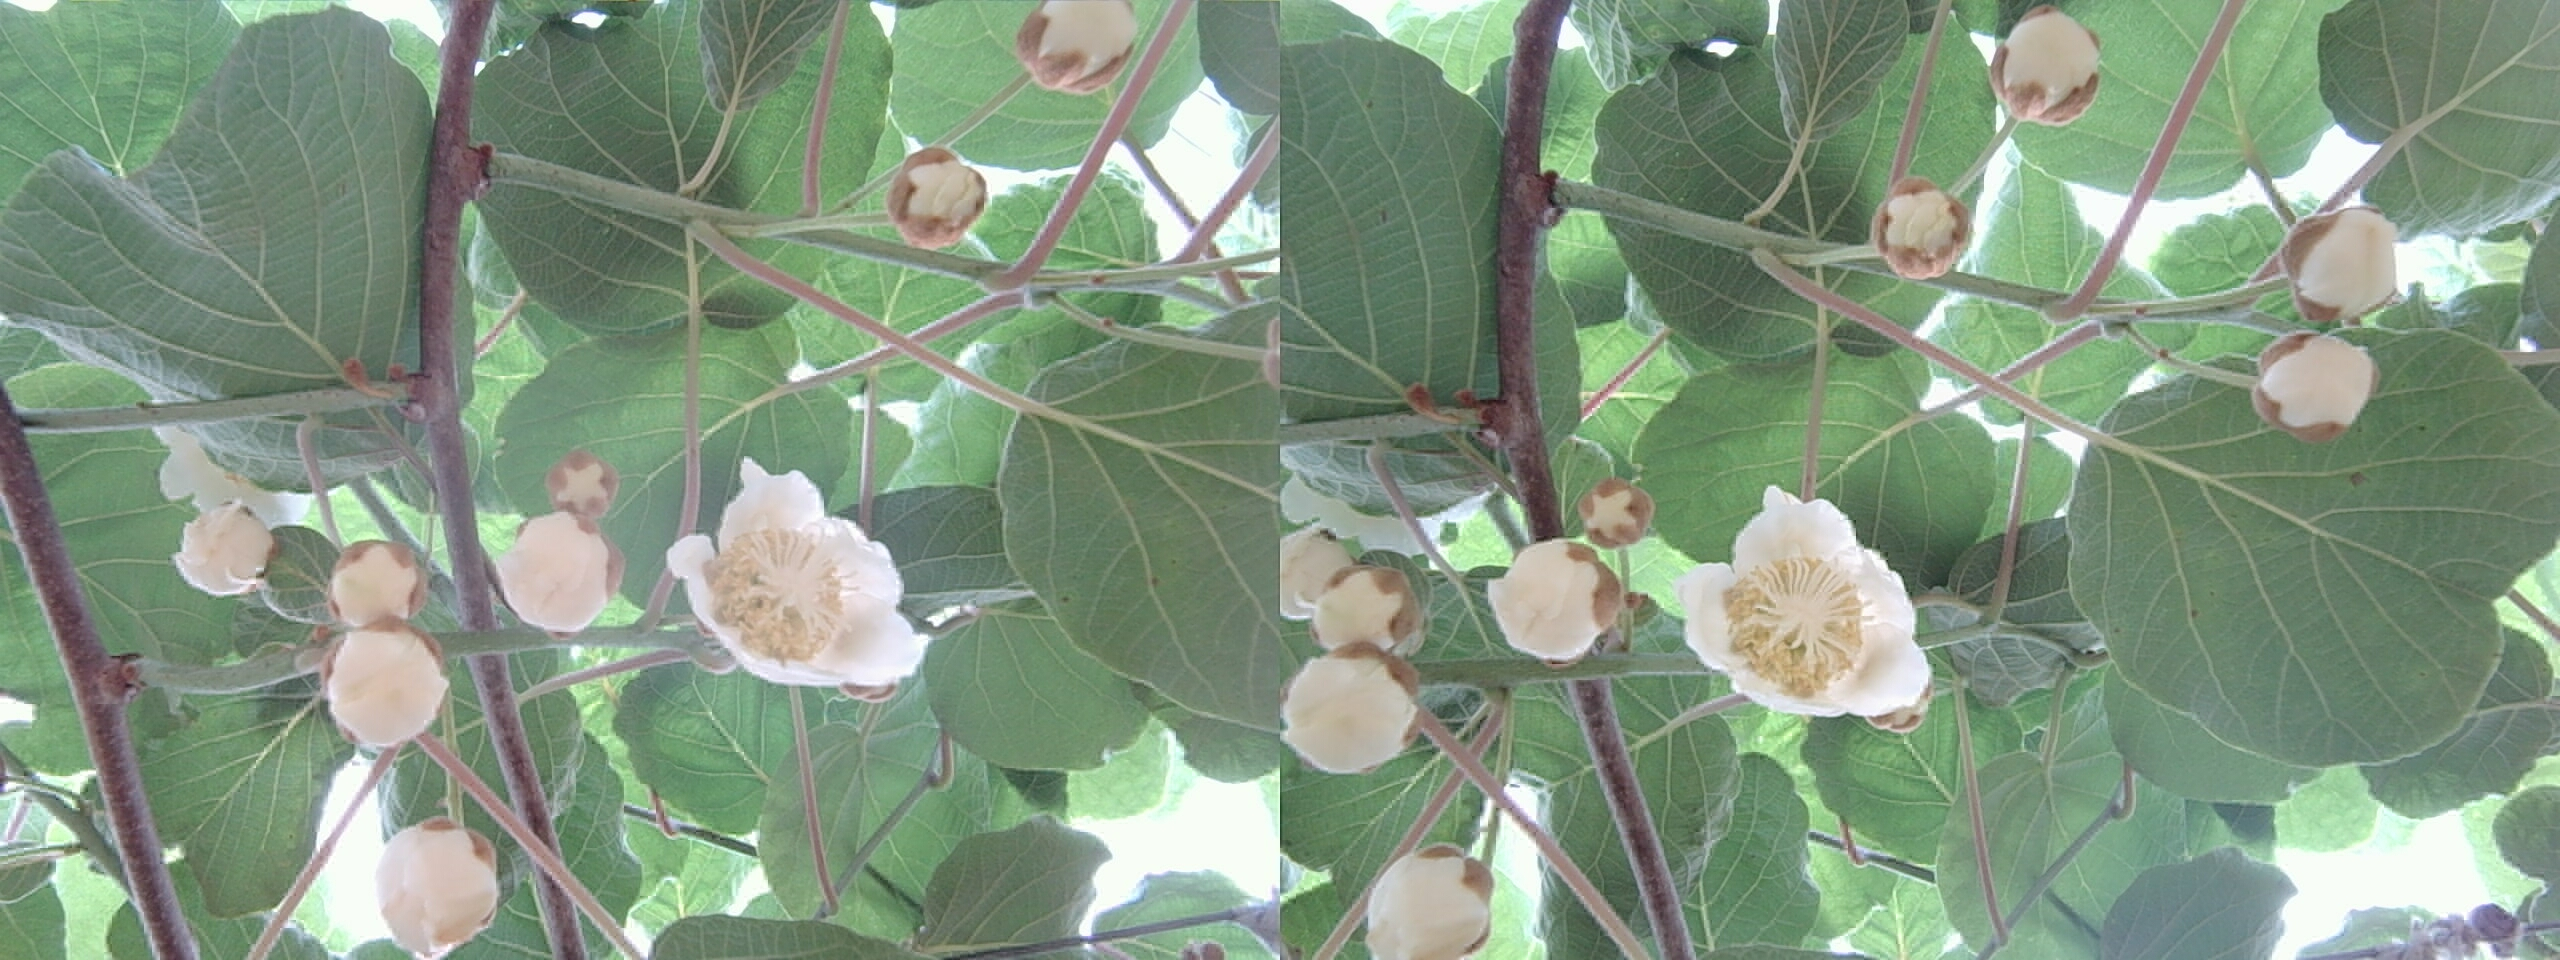flower: (669, 452, 919, 687), (1680, 478, 1917, 723), (490, 452, 625, 625), (1283, 640, 1417, 766), (322, 612, 444, 743), (1492, 539, 1624, 656), (1984, 7, 2096, 122), (1301, 550, 1416, 651), (176, 496, 271, 593)
